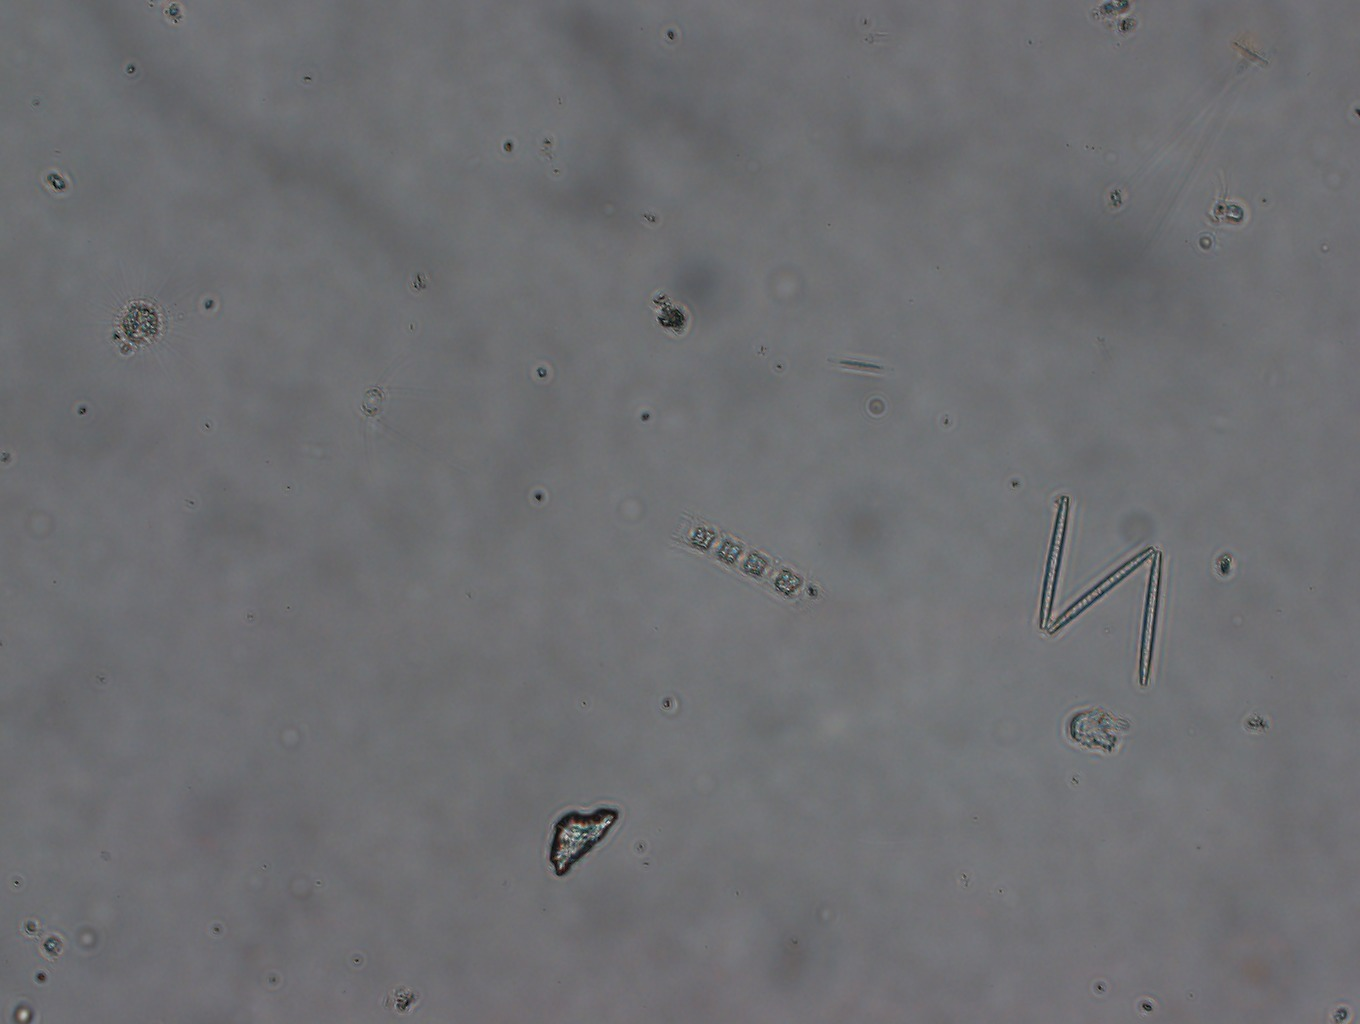skeletonema: (665, 504, 816, 609)
thalassionema nitzschioides: (1027, 485, 1168, 693)
